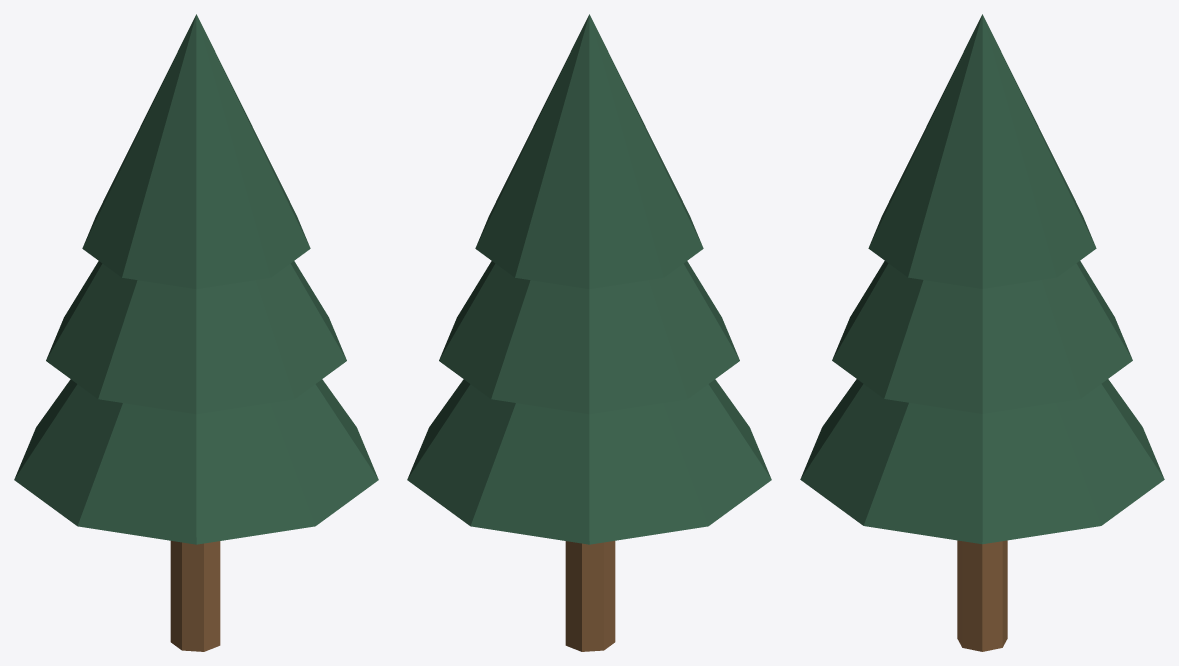
Rendered from Mush_MapProp_Pine_A_V2.fbx.
The picture shows the model from 3 angles, left to right: view 1: azimuth 30°, elevation 25°; view 2: azimuth 150°, elevation 25°; view 3: azimuth 270°, elevation 25°; orthographic projection.
Parts seen in each view (by area): view 1: Mush_MapProp_Pine_A_V2; view 2: Mush_MapProp_Pine_A_V2; view 3: Mush_MapProp_Pine_A_V2.
Part boxes in pixels (bbox=[...]): Mush_MapProp_Pine_A_V2: bbox=[14, 14, 378, 651]; Mush_MapProp_Pine_A_V2: bbox=[407, 14, 771, 651]; Mush_MapProp_Pine_A_V2: bbox=[800, 14, 1164, 651].
Bounding box in the file's own units: 223 × 430 × 227.
